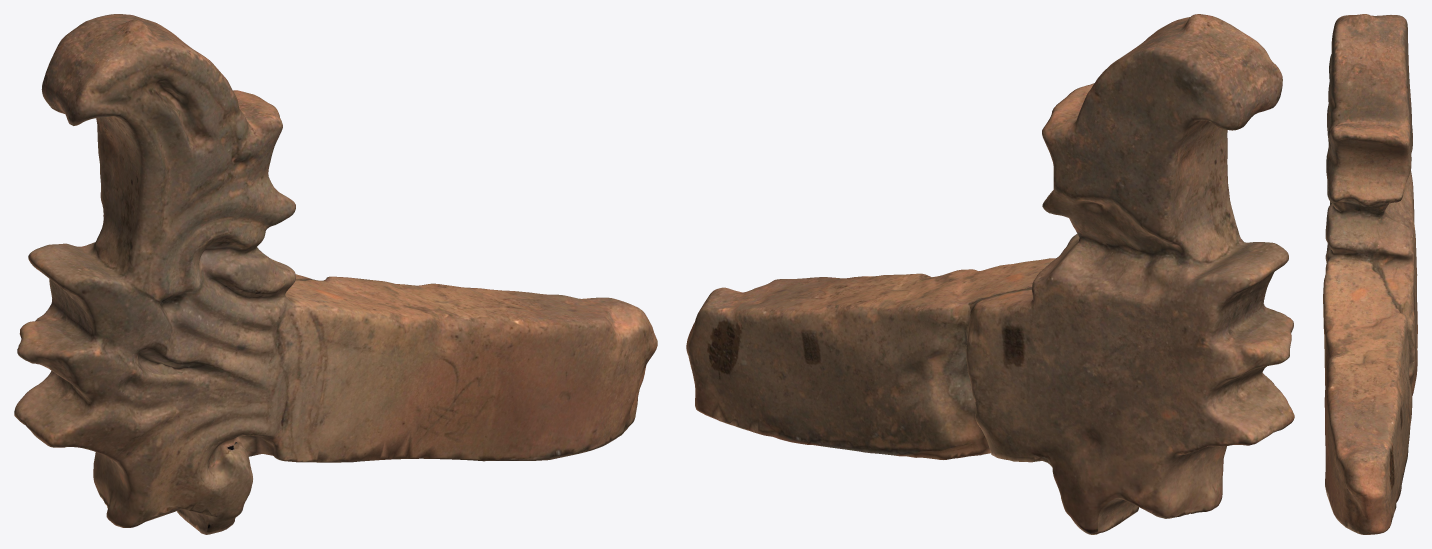
Rendered from MysonMuseum_hoavanhoaco_final.glb.
3 views of the same model, side by side, from view 1: azimuth 30°, elevation 25°; view 2: azimuth 150°, elevation 25°; view 3: azimuth 270°, elevation 25° (orthographic). The views are drawn at different scales.
Bounding box in the file's own units: 0.3411 × 0.2754 × 0.0656.
1 material, 1 textured.
